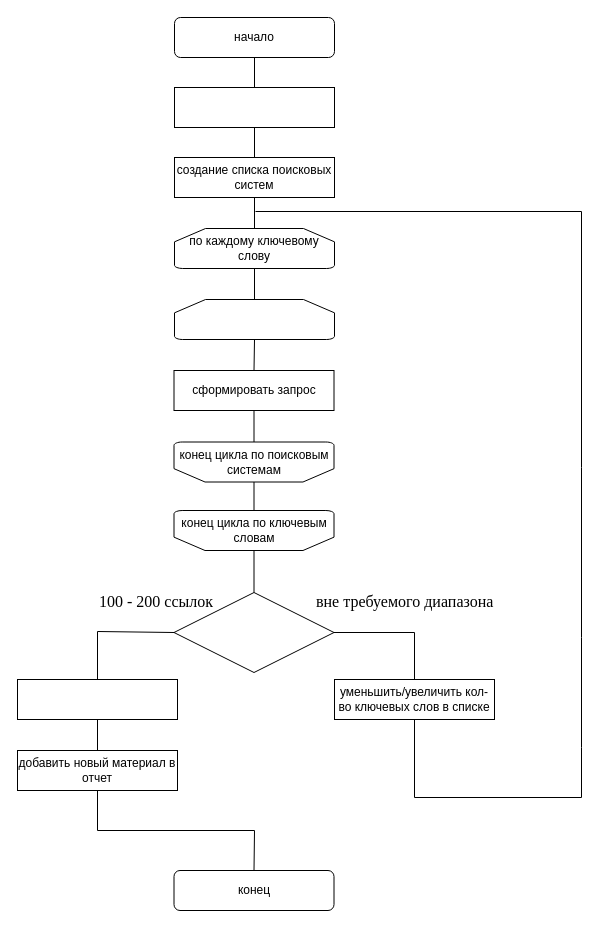
Image size: 600x928. Some labels were removed from this diagram. The centre of each missing label's shape, as x and y in pixels:
"изучить информацию по проблематике" goes at pixel 97 699.
"по каждой информационной системе" goes at pixel 254 319.
"результат запроса?" goes at pixel 253 632.
"создание списка ключевых слов" goes at pixel 254 107.
